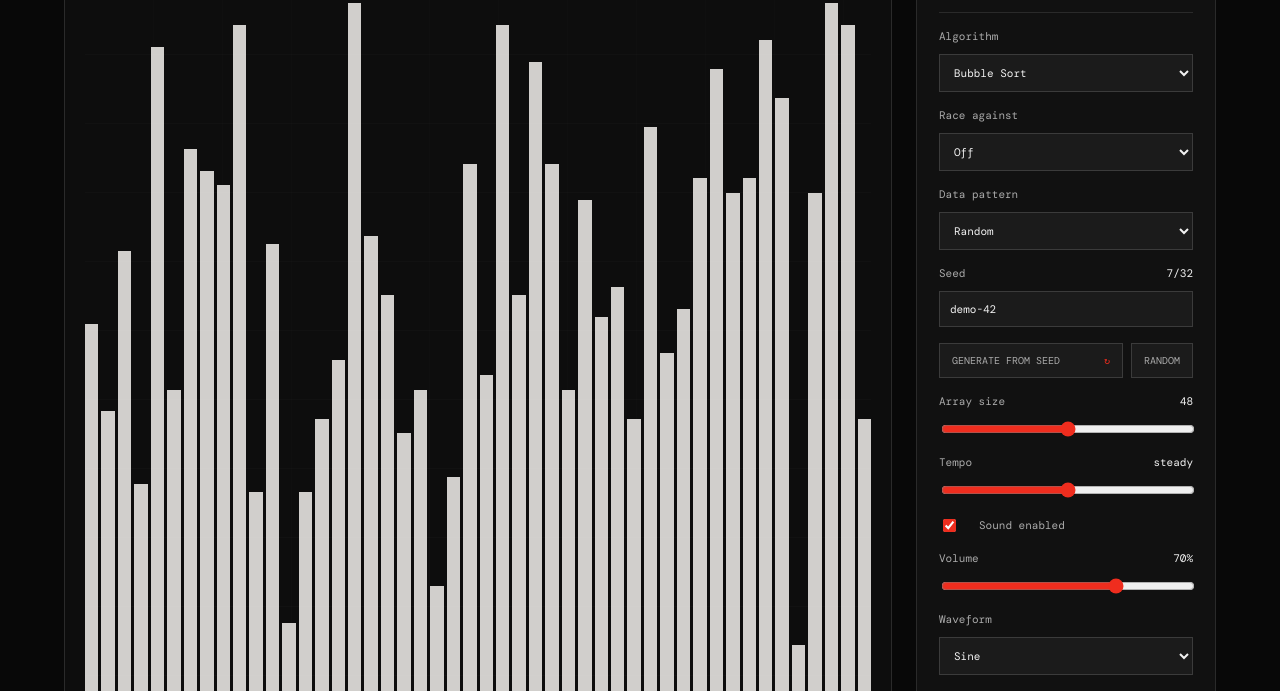
it: Sort With Sound controls › draws a fresh seed for new random data
The image size is (1280, 691).
(page scrolled)
Step 1. Click the button with aria-label "new random data" → (1162, 360), box [1131,343,1193,378]
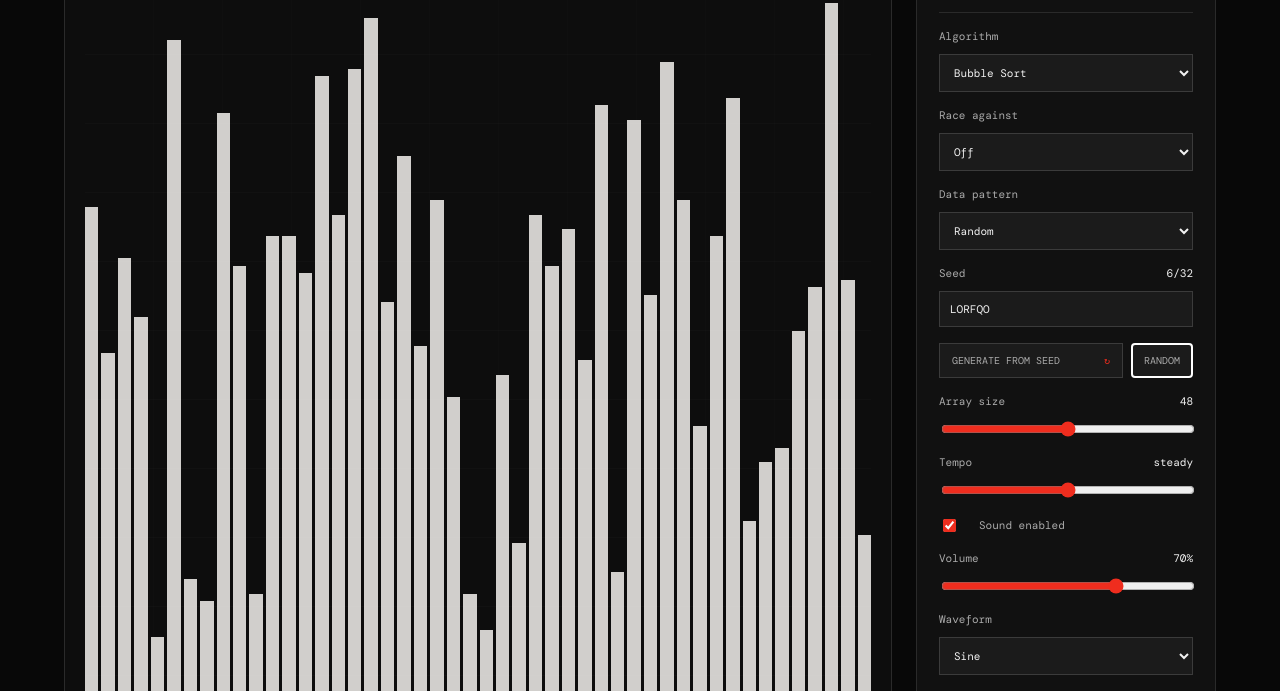
Result: the field named "seed" does not hold "demo-42" at [939,291,1193,327]
